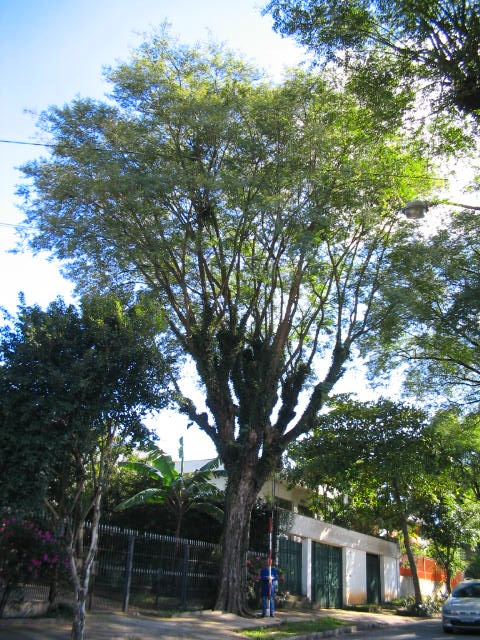crown: (20, 23, 470, 354), (5, 296, 179, 527)
stem: (199, 465, 262, 617), (59, 586, 99, 640)
stick: (264, 517, 277, 618)
tree: (16, 20, 474, 619), (1, 293, 181, 640)
